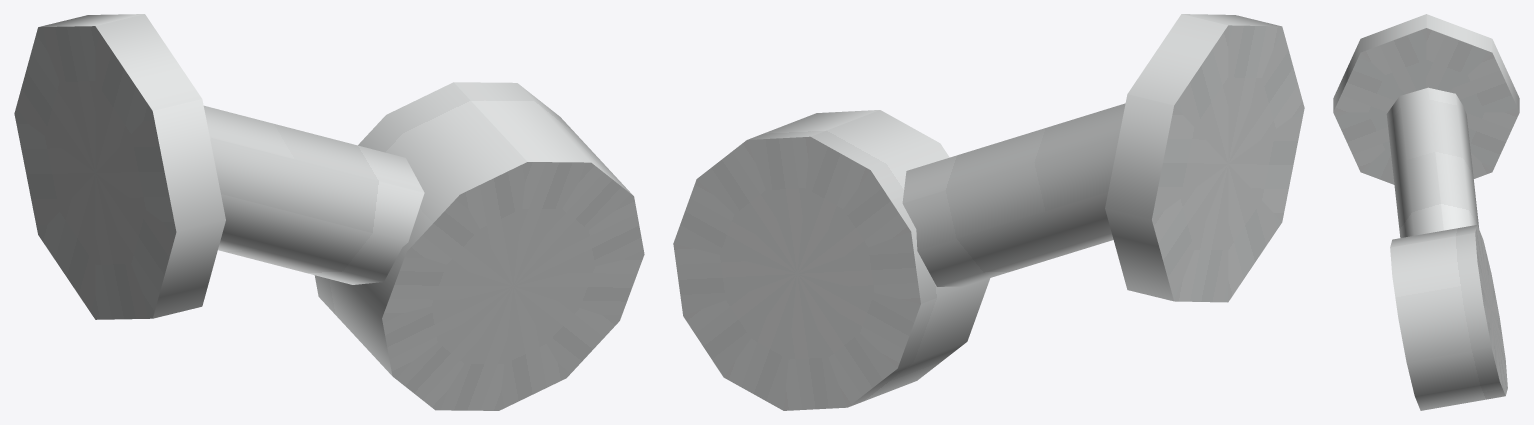
The model's file is nycsignalarm_stub_63.obj.
3 renders of one model, left to right at view 1: azimuth 30°, elevation 25°; view 2: azimuth 150°, elevation 25°; view 3: azimuth 270°, elevation 25°, orthographic. The views are drawn at different scales.
Parts seen in each view (by area): view 1: nycsignalarm_stub_63; view 2: nycsignalarm_stub_63; view 3: nycsignalarm_stub_63.
Part boxes in pixels (bbox=[...]): nycsignalarm_stub_63: bbox=[14, 14, 644, 410]; nycsignalarm_stub_63: bbox=[673, 14, 1304, 410]; nycsignalarm_stub_63: bbox=[1333, 14, 1519, 410].
Bounding box in the file's own units: 0.6631 × 0.5723 × 0.35.
